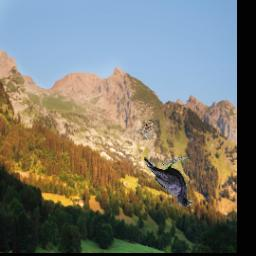Crow: (144, 158, 193, 207)
Sparrow: (136, 119, 154, 140)
